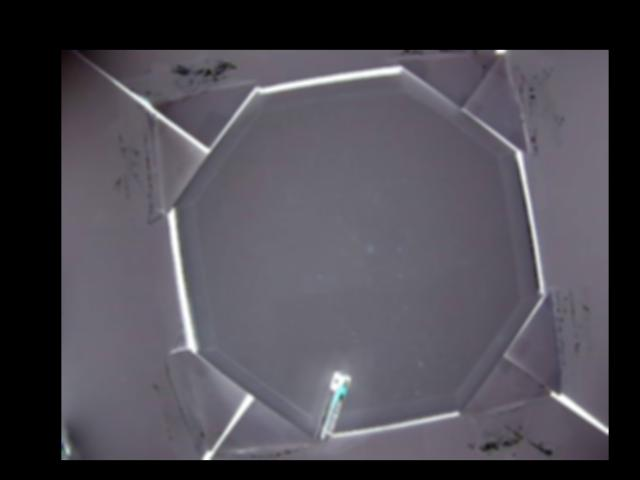Battery: (313, 372, 350, 443)
